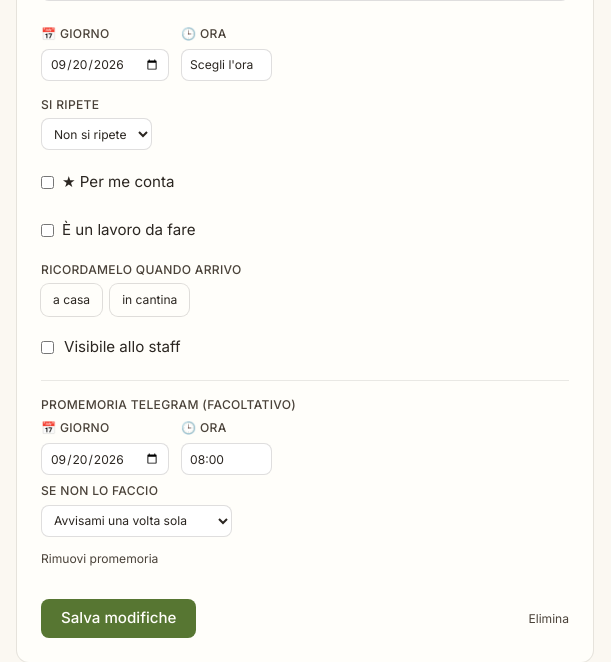
Test case: 🔴 acceso, usa le parole della ricorrenza più minuti e ore › «ogni N unità», e le unità sono sei
(page scrolled)
Select "Insisti finché non lo chiudo" in the dropdown named "Sollecito": (136, 521) [41,504,232,537]
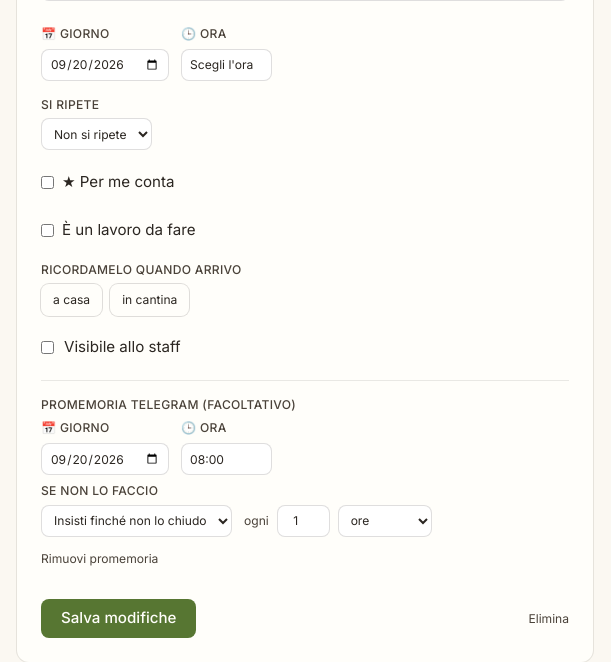
Expected: the number field named "Ogni quanto sollecitare" holds "1", [277,504,330,537]
Expected: the dropdown named "Unità del sollecito" shows "ore", [338,504,432,537]
